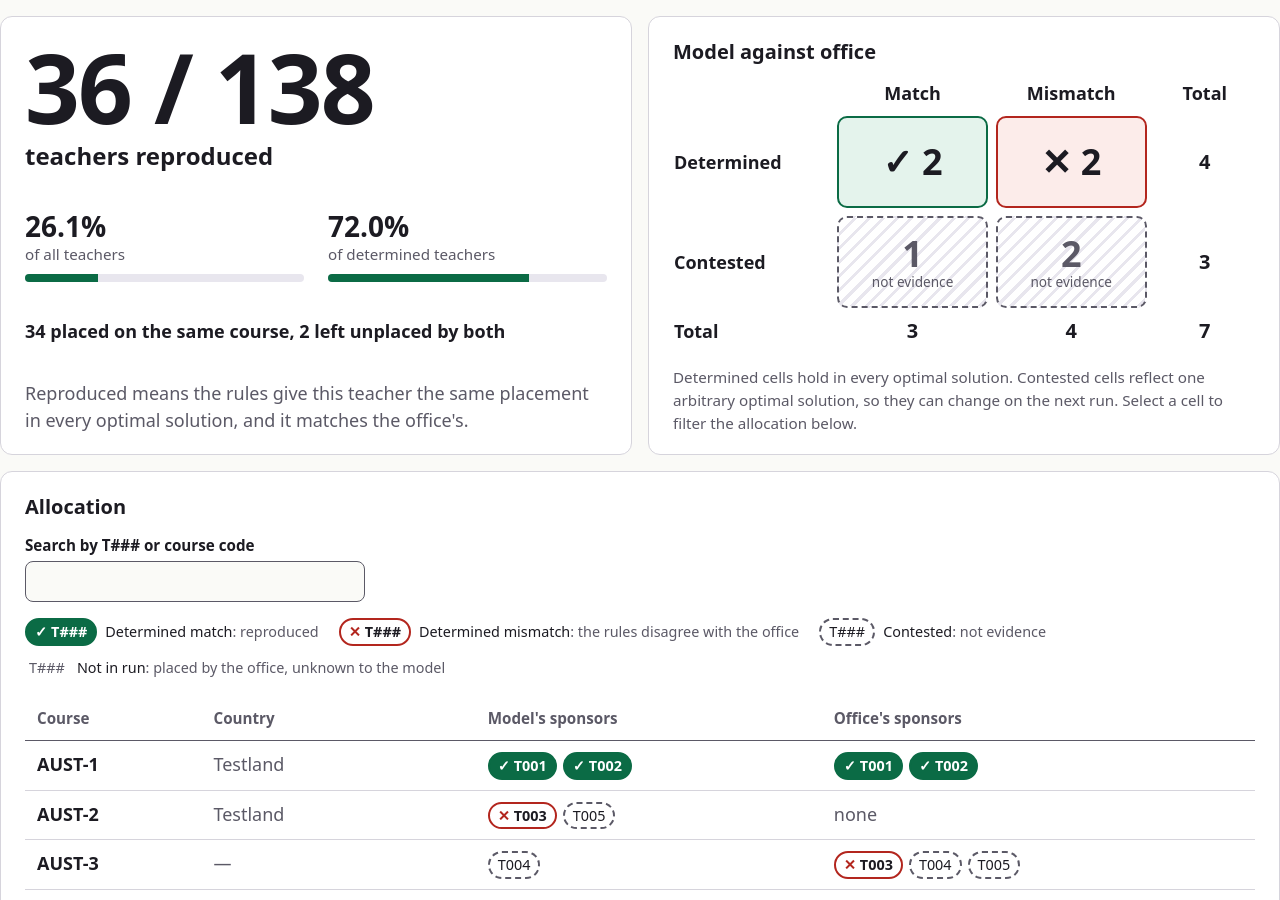
Scenario: Results matrix › a contested filter keeps only its own side of the shared status
Click the button with aria-label "Contested match". click: (913, 262)
box: [837,216,988,308]
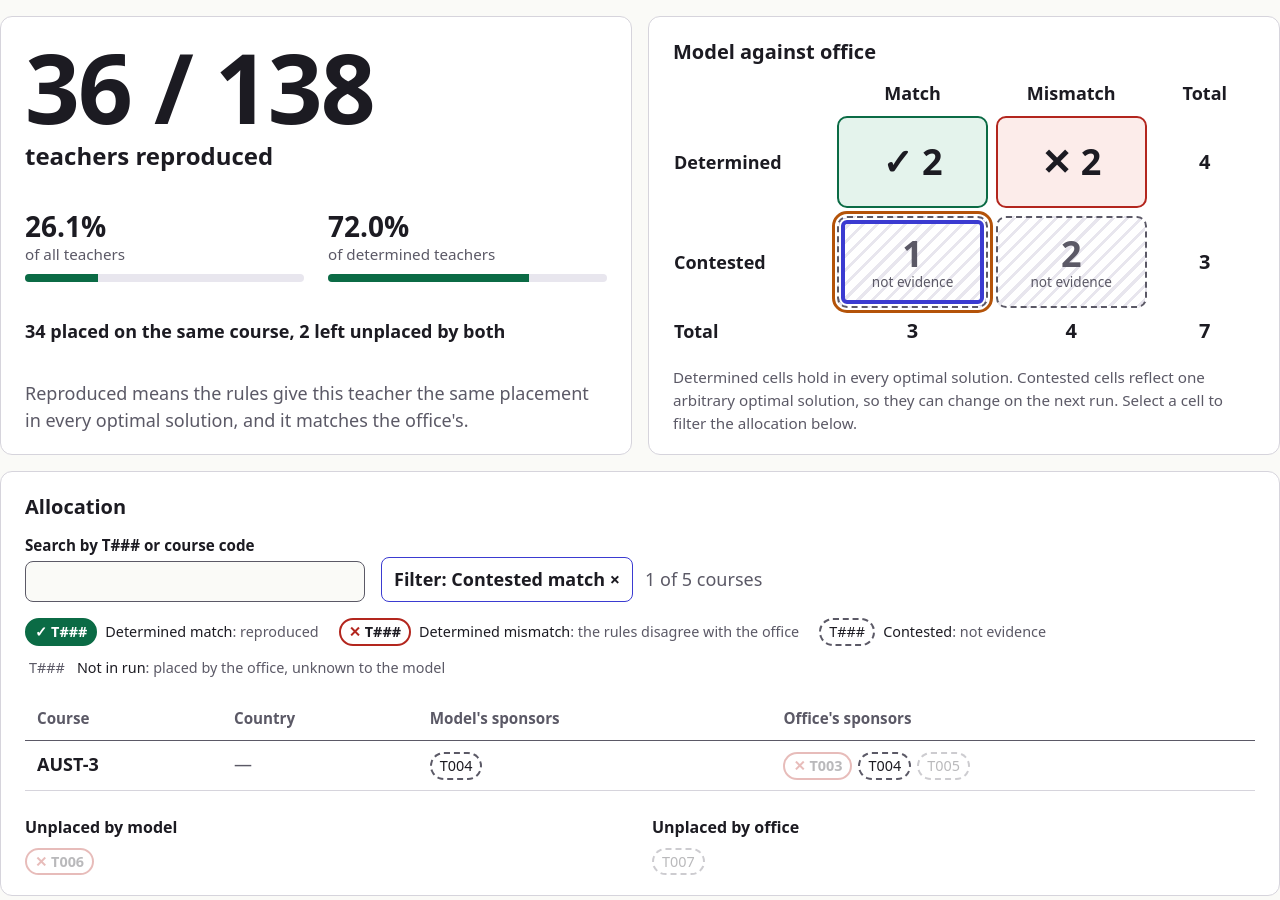
Expected: the picture named "T005: contested" has class "chip--dimmed", [917,752,970,780]
